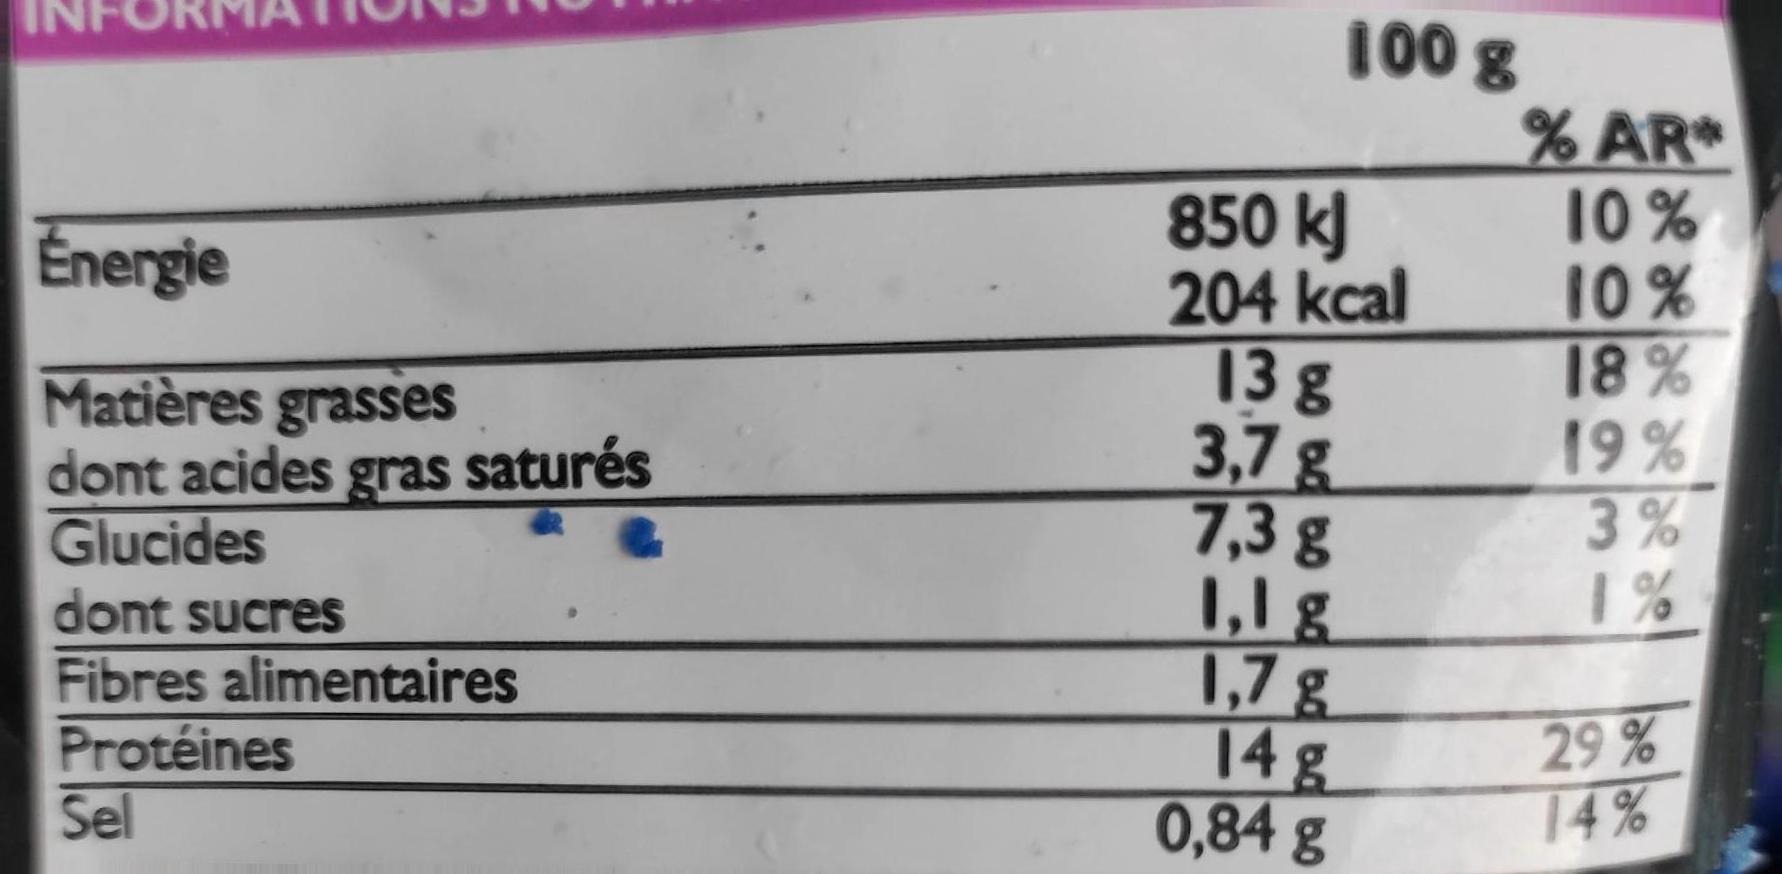column: (41, 224, 653, 844), (1155, 195, 1409, 859), (1516, 107, 1723, 846)
line: (60, 20, 1726, 164), (22, 203, 1701, 319), (40, 360, 1693, 418), (63, 790, 1660, 849), (60, 654, 1677, 710), (44, 433, 1684, 483), (50, 514, 1689, 561), (51, 582, 1684, 627), (63, 726, 1669, 772)
table: (15, 1, 1697, 863)
